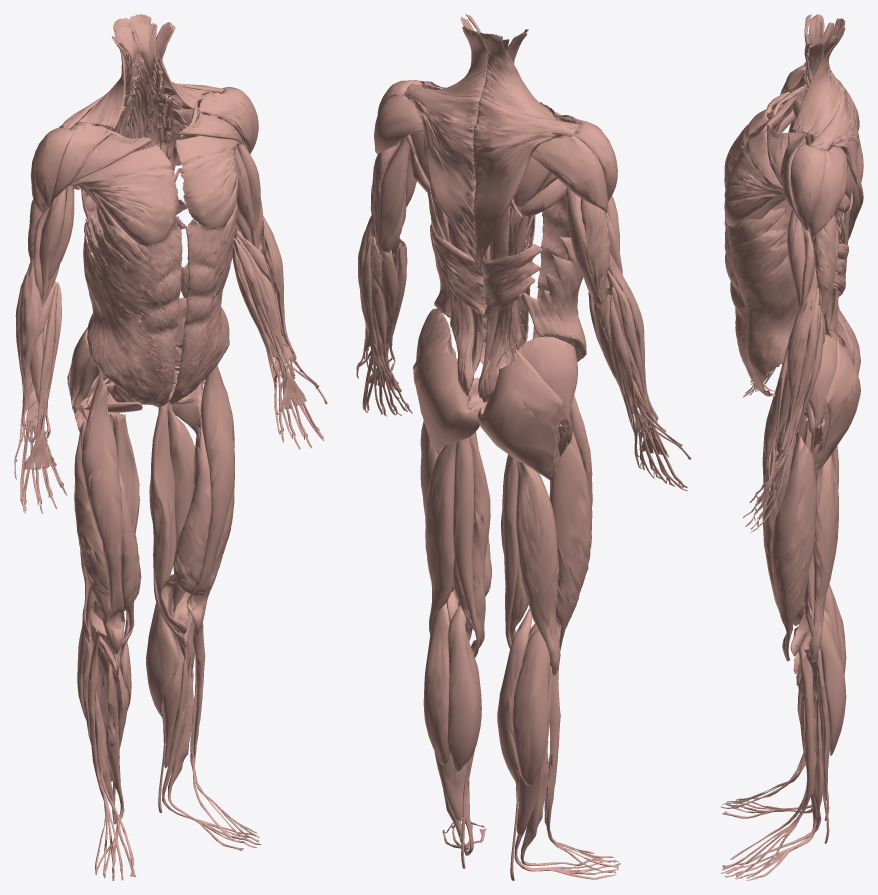
Rendered from lean-mode-muscles.glb.
3 views of the same model, side by side, from view 1: azimuth 30°, elevation 25°; view 2: azimuth 150°, elevation 25°; view 3: azimuth 270°, elevation 25° (orthographic). The views are drawn at different scales.
Visible parts, largest first — view 1: FJ1452, FJ1452M, FJ1464, FJ1433, FJ1433M, FJ1464M, FJ1435M, FJ1443M, FJ1442, FJ1397M, FJ1437, FJ1395M (+37 smaller); view 2: FJ1418, FJ1395, FJ1442, FJ1452, FJ1520M, FJ1520, FJ1418M, FJ1394, FJ1397M, FJ1395M, FJ1394M, FJ1436M (+40 smaller); view 3: FJ1452M, FJ1442M, FJ1395M, FJ1464M, FJ1418M, FJ1406M, FJ1521M, FJ1467M, FJ1394M, FJ1487M, FJ1513M, FJ1433M (+36 smaller).
Boxes of the visible parts, x1,y1,x2,y2 form: FJ1452: (83,205,182,407); FJ1452M: (166,201,237,404); FJ1464: (68,145,178,246); FJ1433: (81,374,125,654); FJ1433M: (186,365,234,634); FJ1464M: (175,136,239,229); FJ1435M: (149,404,187,633); FJ1443M: (173,414,211,610); FJ1442: (74,421,115,652); FJ1397M: (146,574,179,717); FJ1437: (82,624,128,781); FJ1395M: (168,402,195,545); FJ1418: (477,349,565,481); FJ1395: (516,459,560,675); FJ1442: (549,425,592,650); FJ1452: (523,193,586,361); FJ1520M: (413,99,482,274); FJ1520: (473,123,562,274); FJ1418M: (413,332,479,454); FJ1394: (512,629,550,785); FJ1397M: (447,605,481,771); FJ1395M: (425,442,457,634); FJ1394M: (423,602,449,764); FJ1436M: (453,437,480,657); FJ1452M: (724,208,798,396); FJ1442M: (771,430,816,660); FJ1395M: (808,452,838,660); FJ1464M: (724,130,784,226); FJ1418M: (812,337,860,474); FJ1406M: (722,645,816,878); FJ1521M: (792,27,845,136); FJ1467M: (790,143,826,230); FJ1394M: (803,609,846,755); FJ1487M: (779,263,817,452); FJ1513M: (808,147,847,239); FJ1433M: (762,438,795,661).
Size of the model in its own units: 0.6388 by 1.58 by 0.251.
